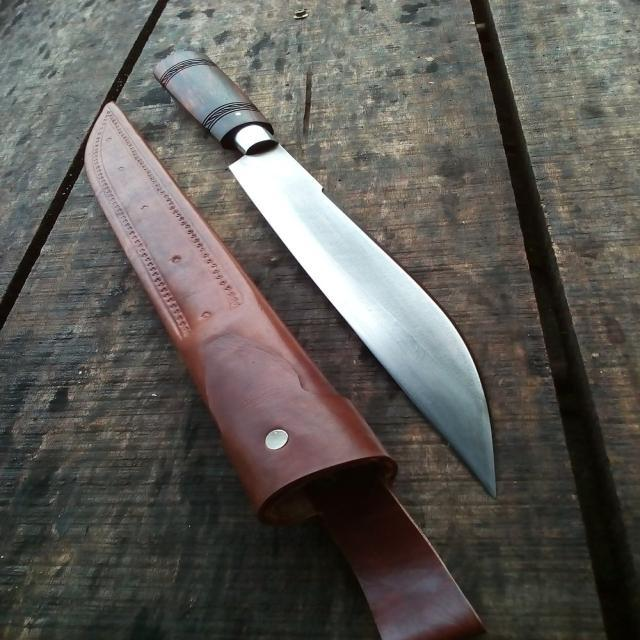Pisau: (147, 44, 517, 503)
